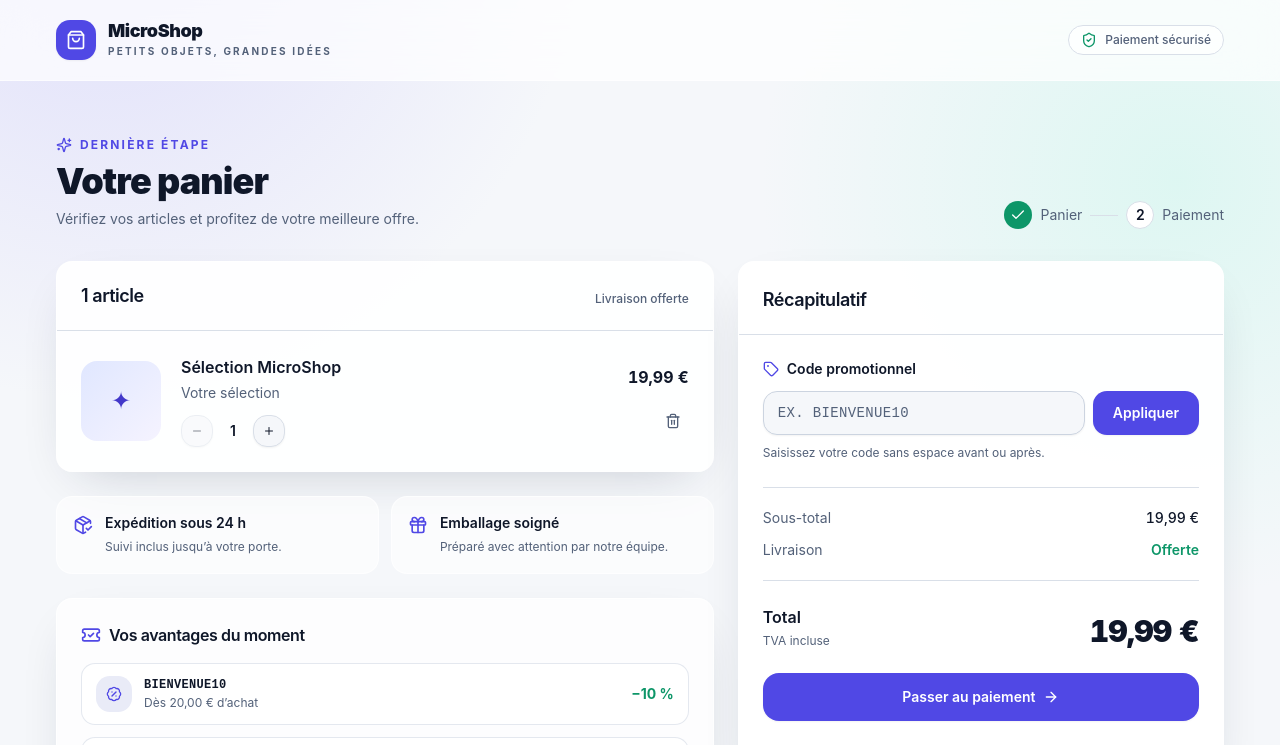
gestion des codes promotionnels au panier › affiche le refus sous le seuil et conserve le total du panier
Type "BIENVENUE10" into the field labelled "Code promotionnel".
click(924, 413); type("BIENVENUE10")  # box x1=763 y1=391 x2=1085 y2=435
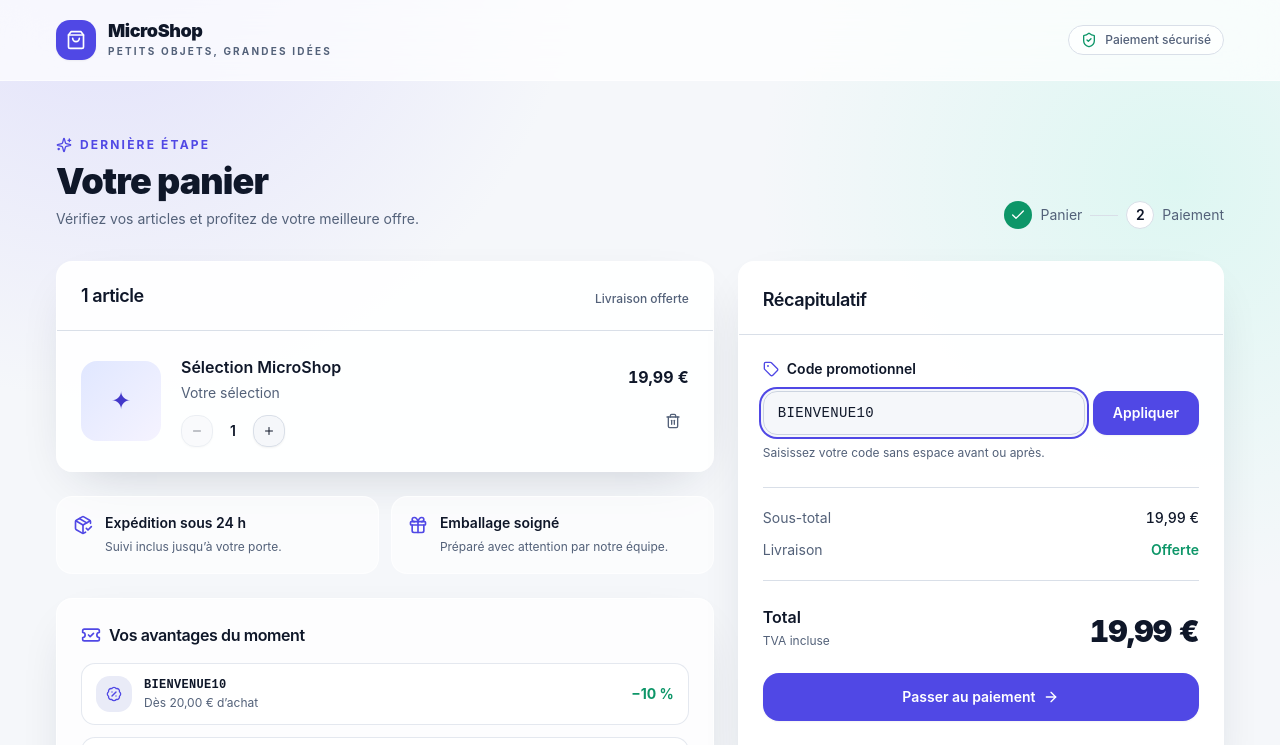
Click the button "Appliquer".
click(1146, 413)  # box x1=1093 y1=391 x2=1199 y2=435
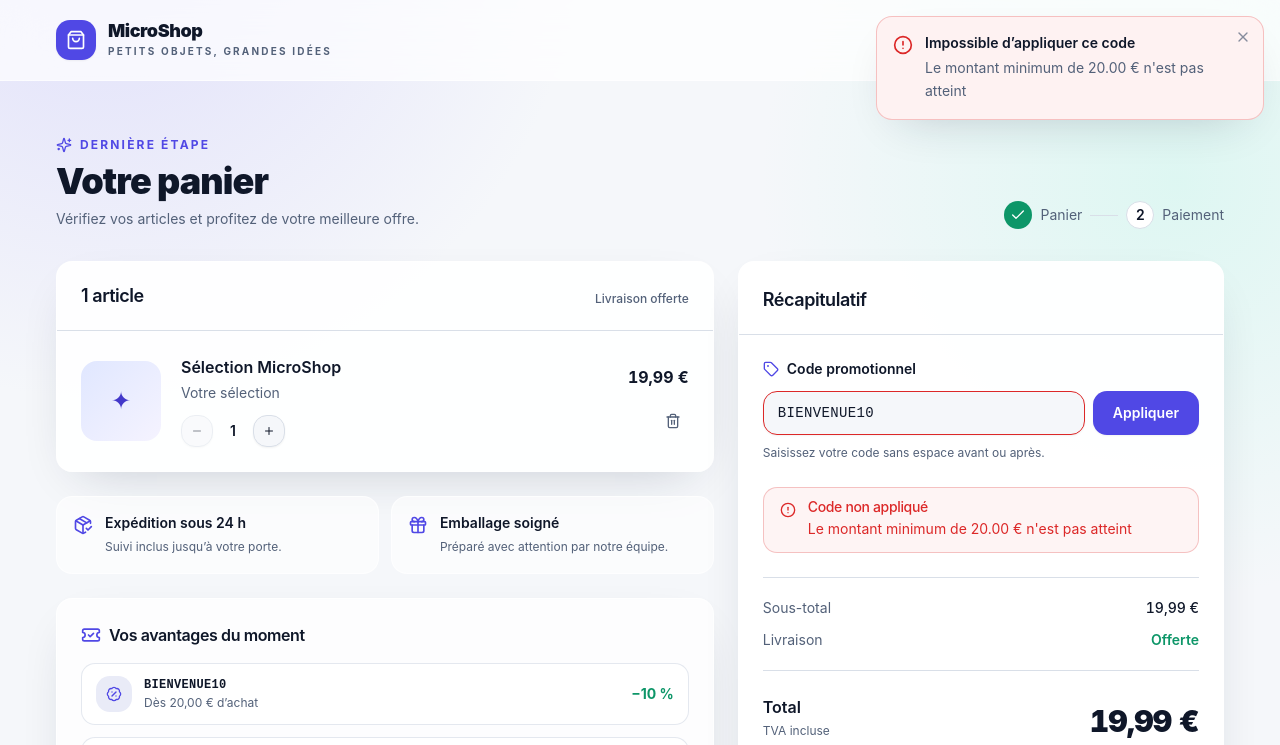
expect the text with test id "order-total" reads "19,99 €": met, box x1=1090 y1=703 x2=1199 y2=739
expect the text "Code non appliqué" shows "Le montant minimum de 20.00 € n'est pas atteint": met, box x1=808 y1=520 x2=1132 y2=536
